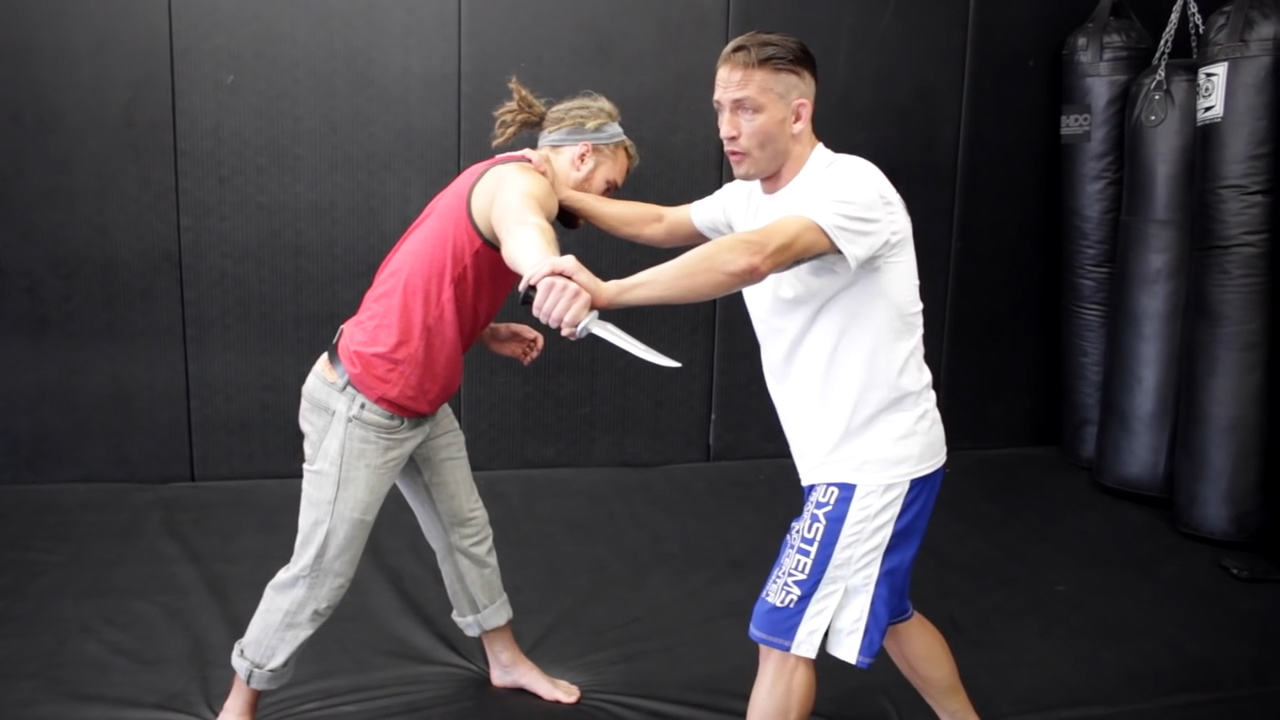knife: (512, 274, 691, 378)
